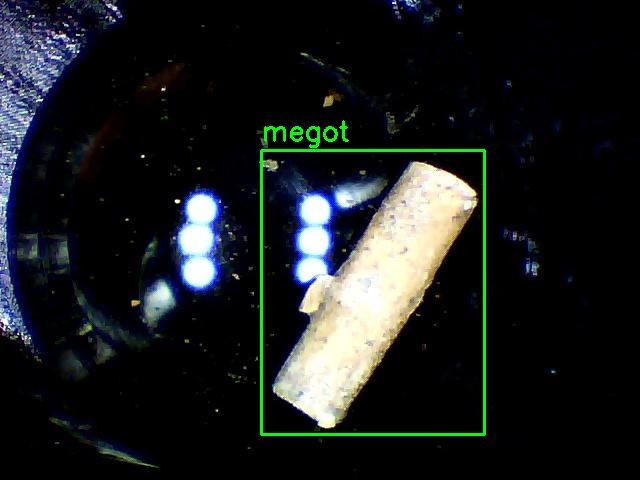megot: (261, 150, 484, 434)
